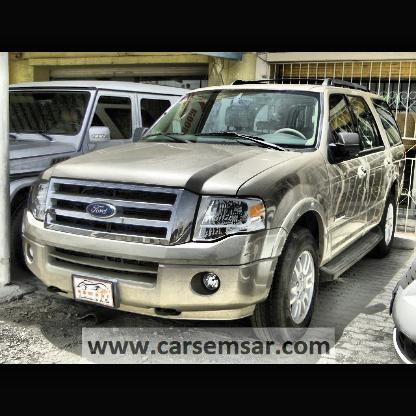Ford Expedition EL SUV 2009: (21, 77, 411, 337)
